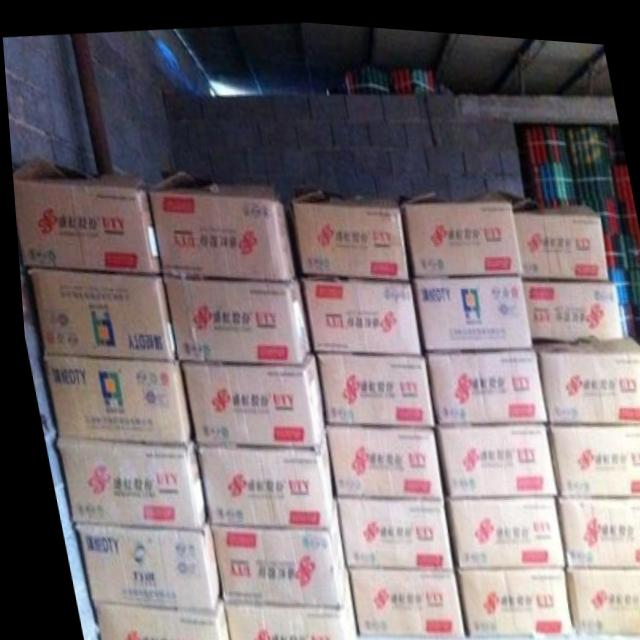box: (10, 153, 159, 271), (145, 166, 292, 276), (202, 494, 338, 604), (173, 346, 320, 445), (49, 432, 199, 529), (189, 422, 328, 523), (22, 266, 172, 359), (65, 517, 212, 608), (36, 354, 185, 442), (159, 274, 306, 361), (285, 182, 406, 275), (396, 184, 519, 270), (216, 560, 347, 640), (530, 324, 640, 415), (294, 270, 417, 349), (417, 340, 542, 416), (429, 413, 552, 490), (408, 268, 528, 343), (320, 418, 437, 494), (329, 490, 446, 566), (437, 489, 558, 562), (310, 350, 429, 421), (338, 563, 457, 634), (508, 187, 605, 272), (446, 562, 565, 631), (539, 416, 640, 488), (81, 593, 222, 640), (518, 271, 619, 336), (548, 488, 640, 559), (558, 559, 640, 623)
